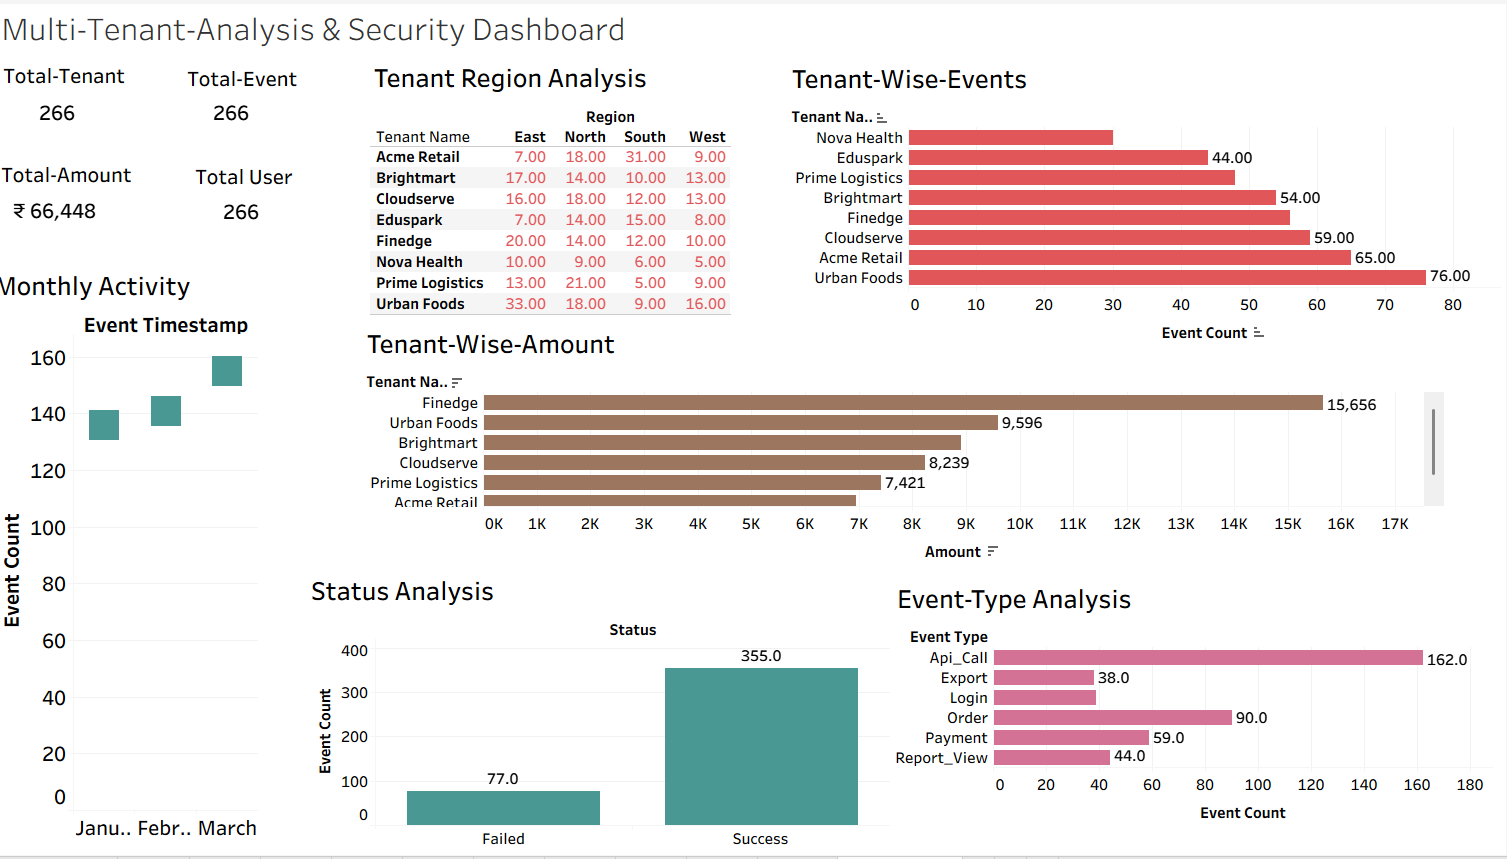

Layout of this report page (visuals, bound fields, positions):
{"tool":"tableau","page":{"name":"Dashboard 1","canvas":[1520,860],"ordinal":0},"visuals":[{"type":"title","box":[8,8,1504,50]},{"type":"worksheet","title":"Sheet 10","mark":"Text","rows":["tenant_name"],"cols":["region"],"box":[384,61,483,262]},{"type":"worksheet","title":"Sheet 6","mark":"Automatic","rows":["tenant_name"],"cols":["event_count"],"box":[802,62,713,294]},{"type":"text","box":[14,65,129,30]},{"type":"text","box":[198,68,117,30]},{"type":"worksheet","title":"Sheet 1","mark":"Automatic","box":[33,104,141,82]},{"type":"worksheet","title":"Sheet 2","mark":"Automatic","box":[207,104,198,161]},{"type":"text","box":[12,164,137,30]},{"type":"text","box":[206,166,104,30]},{"type":"worksheet","title":"Sheet 3","mark":"Automatic","box":[14,202,175,92]},{"type":"worksheet","title":"Sheet 4","mark":"Automatic","box":[217,203,133,70]},{"type":"worksheet","title":"Sheet 9","mark":"Square","rows":["event_count"],"cols":["event_timestamp"],"box":[4,269,268,578]},{"type":"worksheet","title":"Sheet 5","mark":"Automatic","rows":["tenant_name"],"cols":["amount"],"box":[377,327,1081,247]},{"type":"worksheet","title":"Sheet 8","mark":"Automatic","rows":["event_count"],"cols":["status"],"box":[321,574,583,281]}]}

Visuals, with their boxes in screenshot pixels (x1, y1, x2, y2), scaled from the page's 1520x860 canvas onto the 1507x859 screenshot:
title: left=8, top=8, right=1499, bottom=58
"Sheet 10" worksheet (Text marks): left=381, top=61, right=860, bottom=323
"Sheet 6" worksheet: left=795, top=62, right=1502, bottom=356
text: left=14, top=65, right=142, bottom=95
text: left=196, top=68, right=312, bottom=98
"Sheet 1" worksheet: left=33, top=104, right=173, bottom=186
"Sheet 2" worksheet: left=205, top=104, right=402, bottom=265
text: left=12, top=164, right=148, bottom=194
text: left=204, top=166, right=307, bottom=196
"Sheet 3" worksheet: left=14, top=202, right=187, bottom=294
"Sheet 4" worksheet: left=215, top=203, right=347, bottom=273
"Sheet 9" worksheet (Square marks): left=4, top=269, right=270, bottom=846
"Sheet 5" worksheet: left=374, top=327, right=1446, bottom=573
"Sheet 8" worksheet: left=318, top=573, right=896, bottom=854
